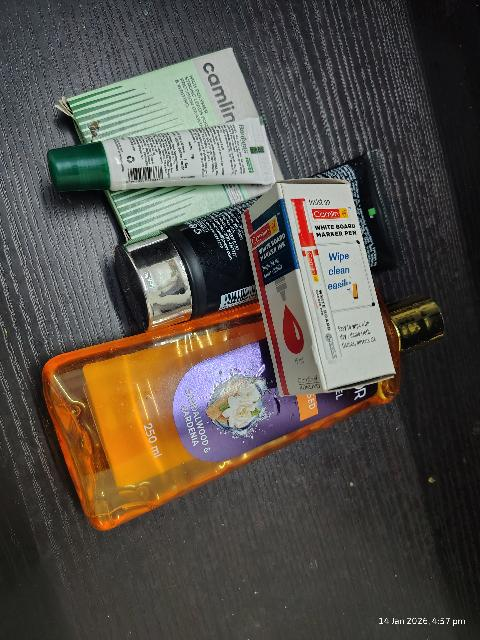banjaras lipbam: (43, 130, 282, 188)
camlin lids: (67, 48, 267, 128)
camlin marker ink: (260, 187, 396, 394)
jovees herbal: (120, 214, 259, 321)
santoor bodywash: (36, 320, 269, 512)
